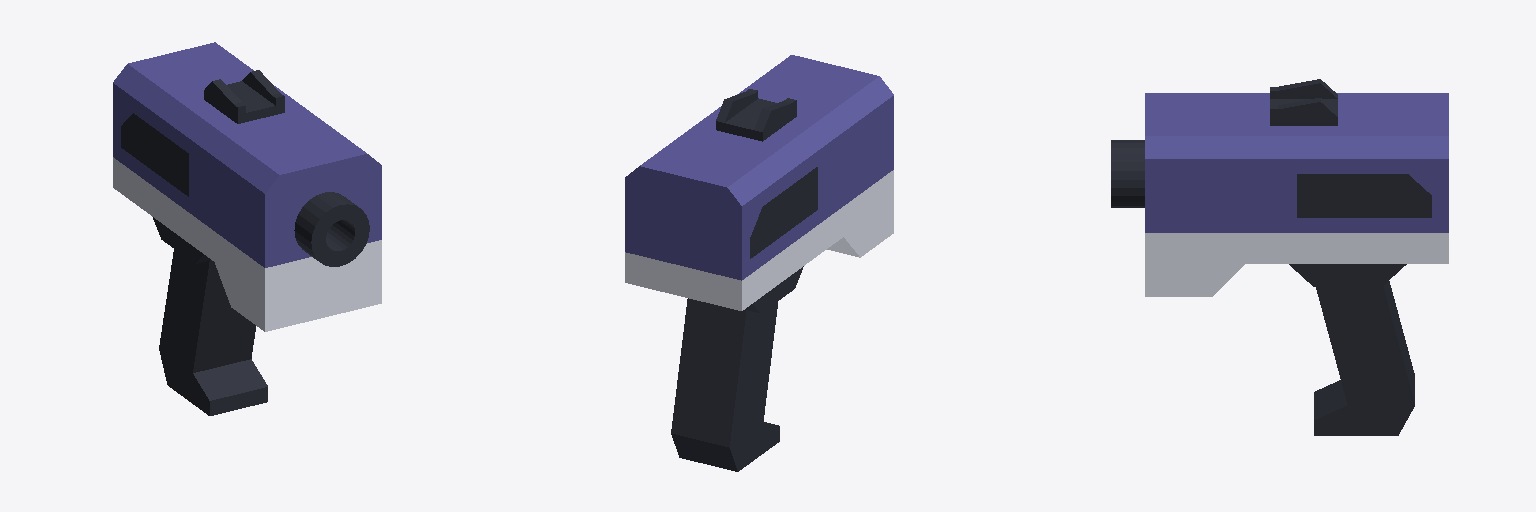
File: gun.obj
The picture shows the model from 3 angles: view 1: azimuth 30°, elevation 25°; view 2: azimuth 150°, elevation 25°; view 3: azimuth 270°, elevation 25°; orthographic projection.
Visible parts, largest first — view 1: mergedBlocks; view 2: mergedBlocks; view 3: mergedBlocks.
Part boxes in pixels (x1,y1,x2,y2): mergedBlocks: (113,42,381,415); mergedBlocks: (625,55,893,471); mergedBlocks: (1111,79,1448,435).
Size of the model in its own units: 0.4 by 1.08 by 1.